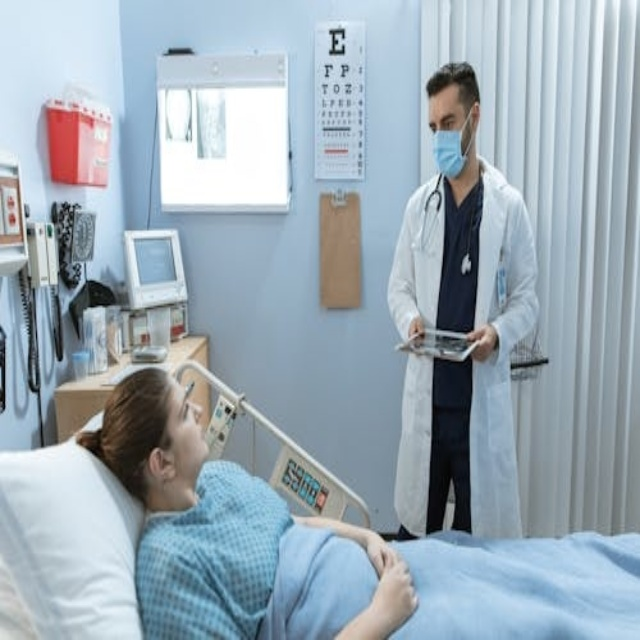Mascara: (432, 108, 474, 178)
Sin_gafas: (173, 388, 195, 436), (424, 104, 461, 129)
Sin_guantes: (368, 546, 420, 633), (468, 324, 499, 364)
Sin_mascara: (184, 417, 212, 461)
